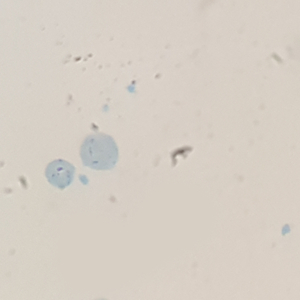erythrocyte: (44, 158, 78, 190)
punctate reticulocyte: (79, 133, 122, 172)
